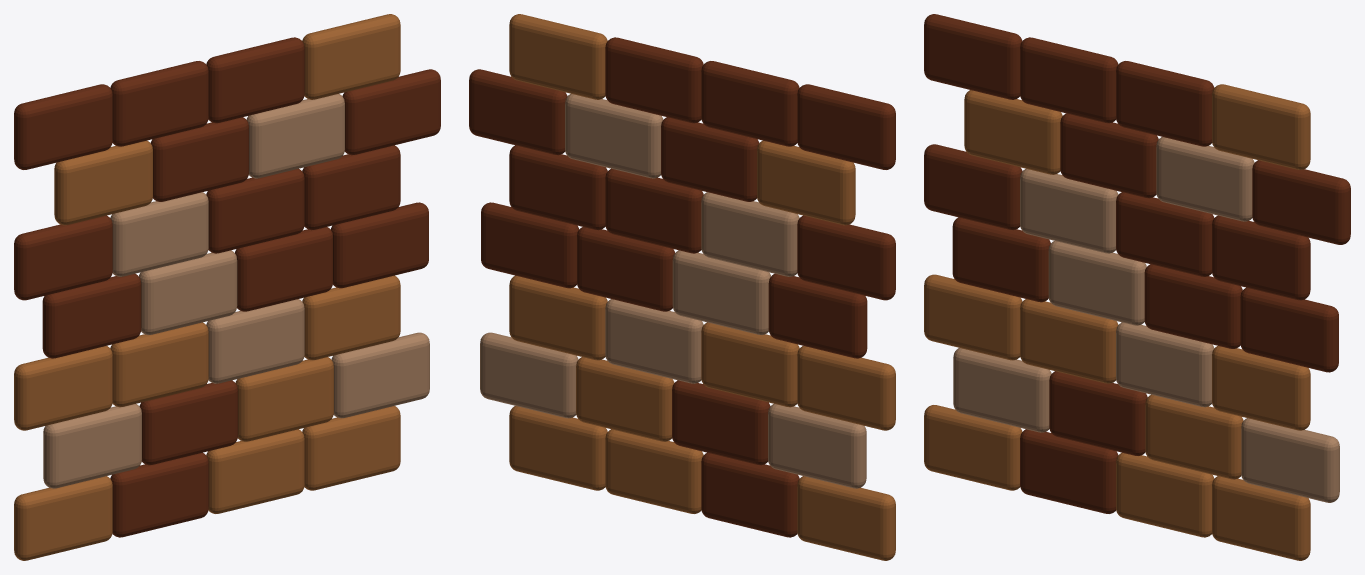
File: wallbricks.fbx
3 views of the same model, side by side, from view 1: azimuth 30°, elevation 25°; view 2: azimuth 150°, elevation 25°; view 3: azimuth 330°, elevation 25° (orthographic).
Visible parts, largest first — view 1: Cube; view 2: Cube; view 3: Cube.
Part boxes in pixels (bbox=[...]): Cube: bbox=[14, 14, 440, 560]; Cube: bbox=[469, 14, 895, 560]; Cube: bbox=[924, 14, 1350, 560].
Bounding box in the file's own units: 884 × 908 × 37.64.
